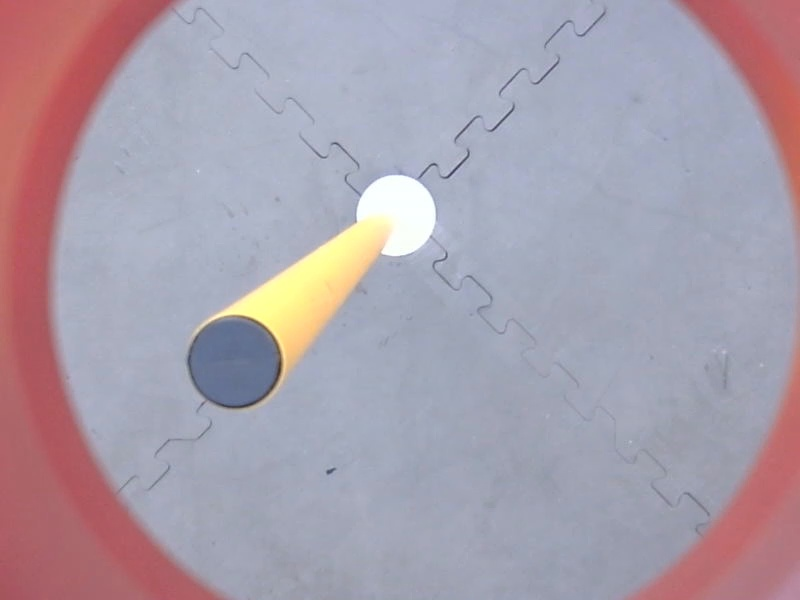tip: (180, 309, 291, 418)
